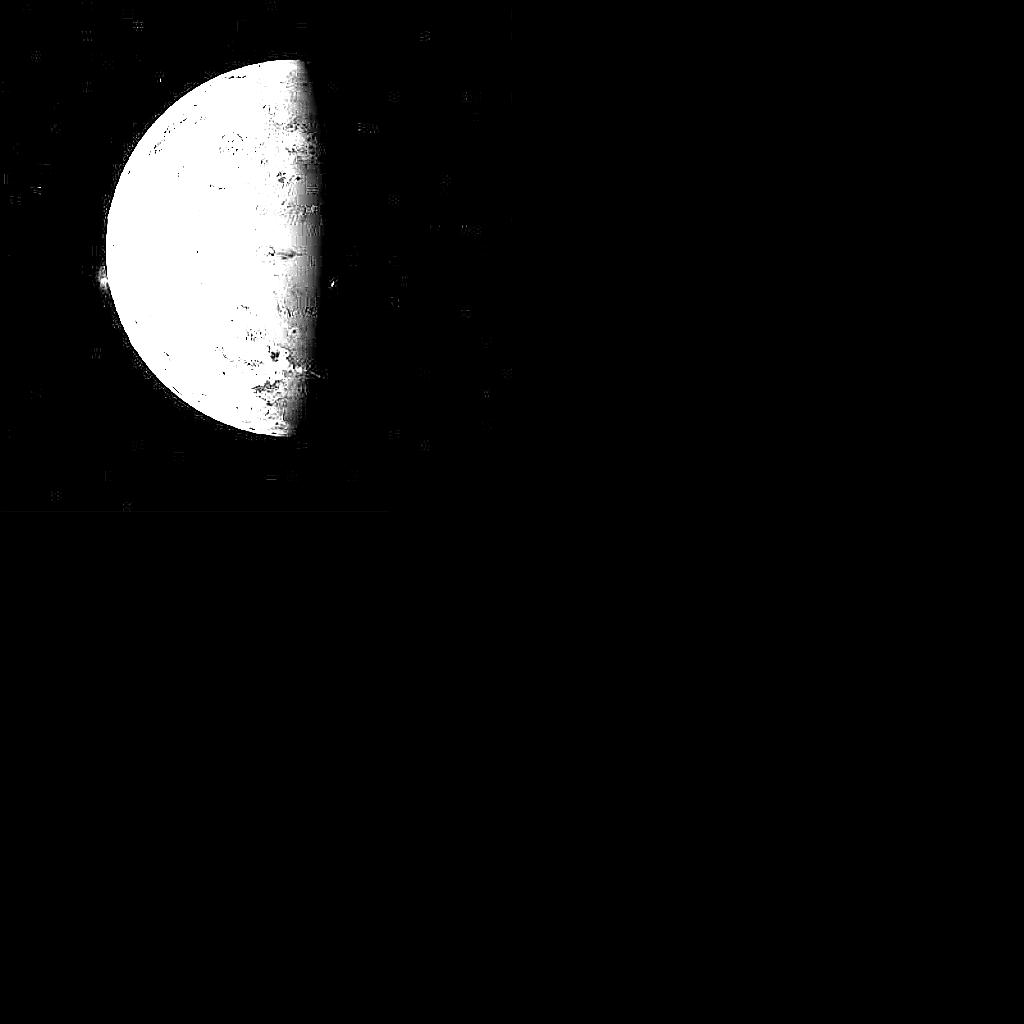plumes: (96, 266, 110, 293)
